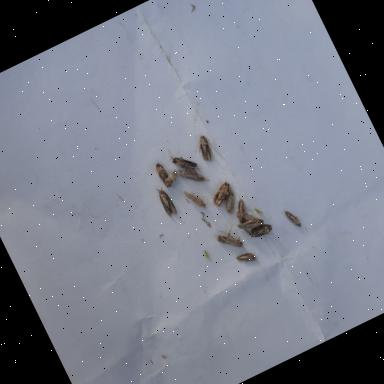pbw: (165, 138, 203, 179), (176, 159, 210, 192), (204, 176, 236, 208), (213, 222, 244, 254), (182, 181, 212, 213), (233, 205, 266, 234), (192, 130, 220, 163), (246, 218, 276, 244), (154, 184, 178, 216), (228, 194, 252, 224), (152, 158, 174, 189), (218, 187, 242, 214), (235, 246, 258, 266), (283, 206, 302, 229)
